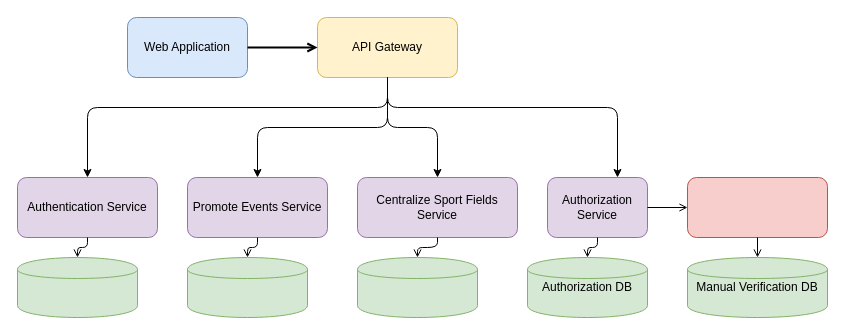
The diagram is 845 pixels wide and 335 high, and some of its shapes have lost their labels. The shapes that lost their labels are listed below. From the top down, each one's box as (x1, y1, x2, y2) in pixels, then its label:
(686, 176, 828, 238): Manual Verification(external)
(16, 256, 138, 318): Authentication DB
(186, 256, 308, 318): Events DB
(356, 256, 478, 318): Sport Fields DB
